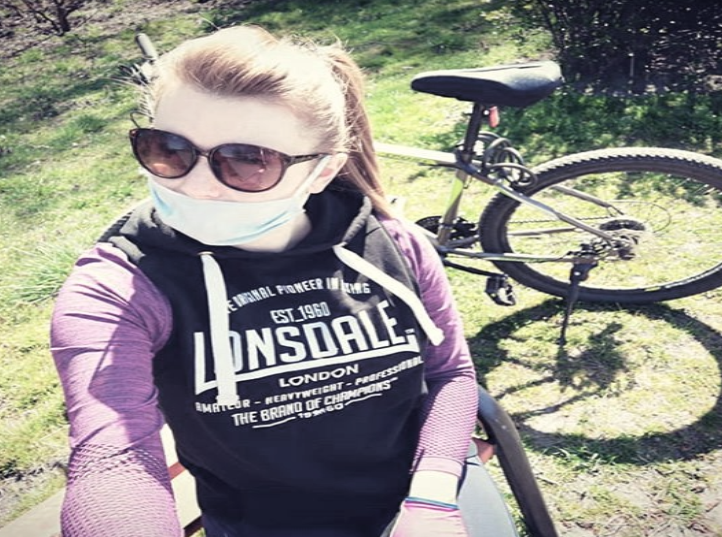mask_weared_incorrect: (123, 30, 359, 249)
